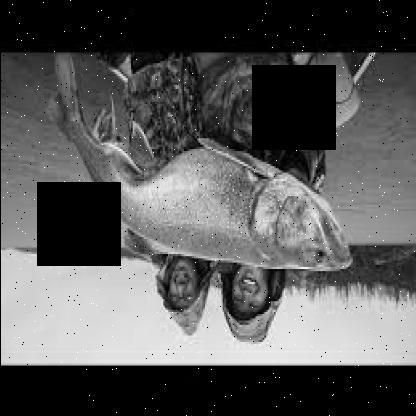fish: (48, 53, 357, 283)
